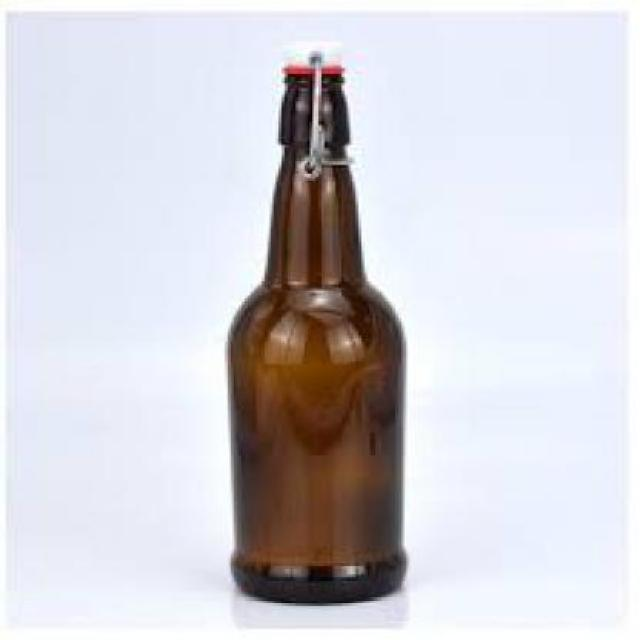kaca: (222, 74, 404, 600)
